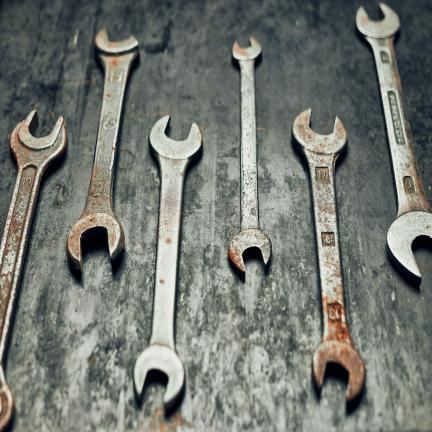besi_tidak_karat: (356, 3, 431, 284), (134, 116, 202, 409)
karat: (0, 110, 66, 431), (292, 109, 364, 402)
